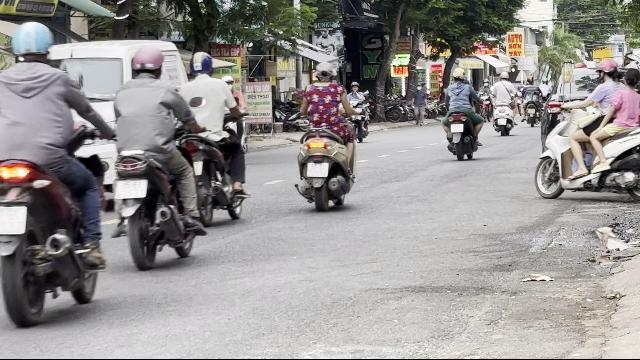helmet: (8, 21, 54, 66), (128, 44, 164, 78), (189, 51, 215, 79), (596, 58, 620, 82)
licenseplate: (0, 205, 24, 232), (114, 179, 146, 197), (308, 163, 328, 177)
motorcyclist: (0, 21, 112, 325), (104, 44, 204, 268), (533, 55, 639, 205), (180, 49, 250, 224), (292, 60, 358, 210)
nohelmet: (312, 61, 336, 83), (623, 68, 639, 88)
